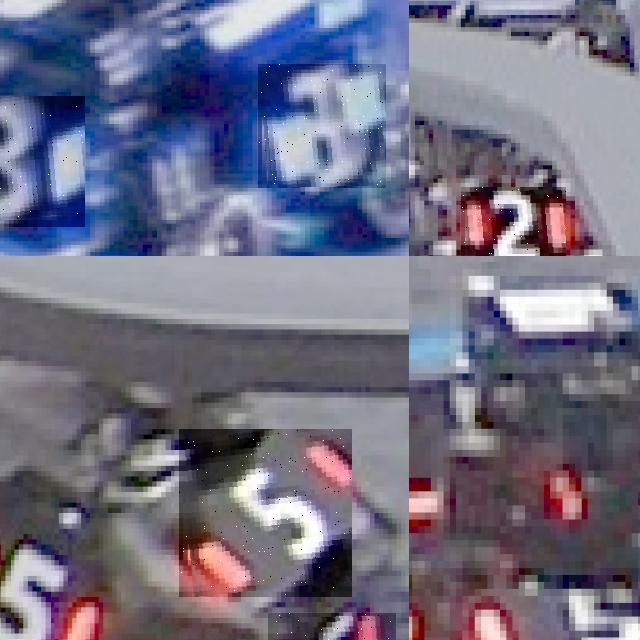B3: (258, 64, 386, 188), (0, 95, 85, 227)
R2: (461, 187, 566, 256)
R5: (179, 429, 352, 597), (0, 523, 103, 640), (267, 612, 396, 640)
